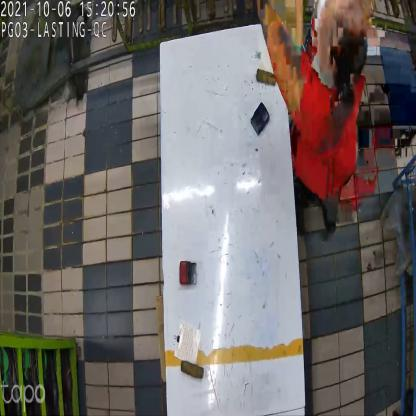stamp: (251, 102, 271, 137), (178, 257, 197, 287)
